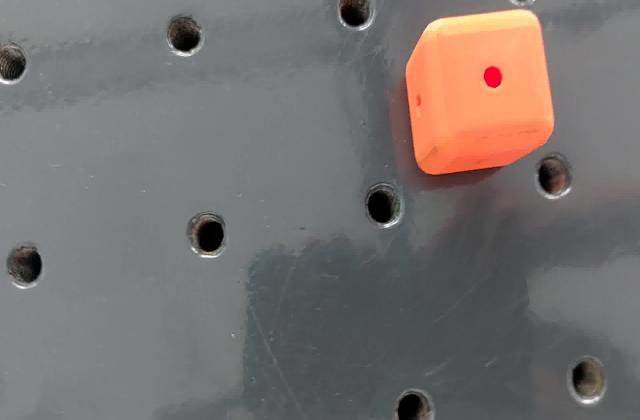cube: (400, 9, 558, 183)
